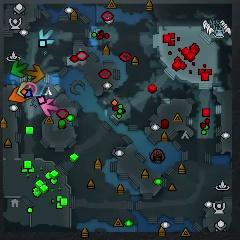p5: (8, 87, 28, 103)
x1: (42, 99, 59, 116)
x2: (17, 81, 31, 97)
x3: (37, 28, 55, 46)
x4: (10, 59, 28, 78)
x5: (26, 64, 44, 83)
